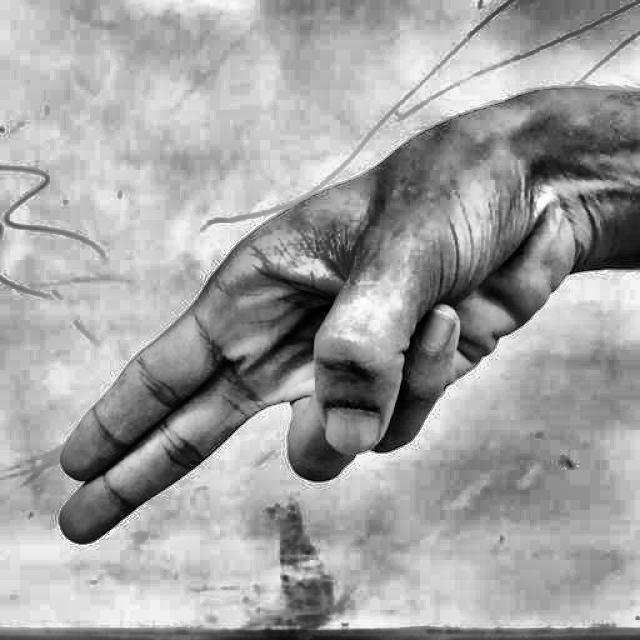Ha: (24, 107, 576, 619)
